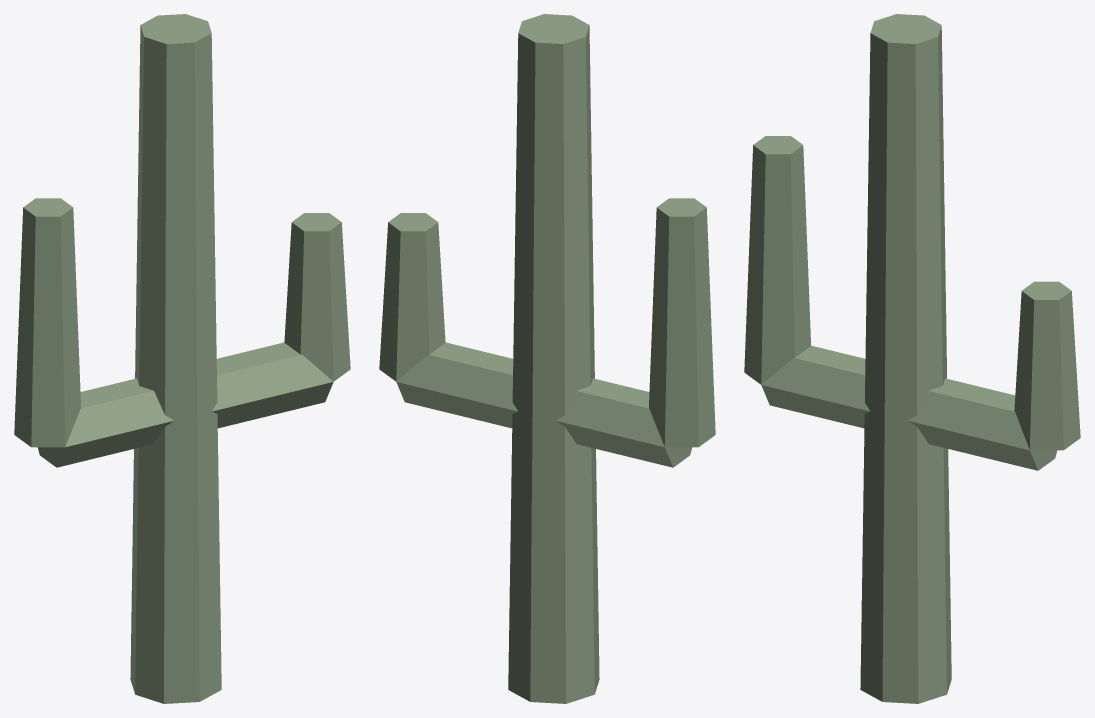
Rendered from cactus.glb.
3 renders of one model, left to right at view 1: azimuth 30°, elevation 25°; view 2: azimuth 150°, elevation 25°; view 3: azimuth 330°, elevation 25°, orthographic.
Size of the model in its own units: 2.5 by 4.9 by 0.64.
